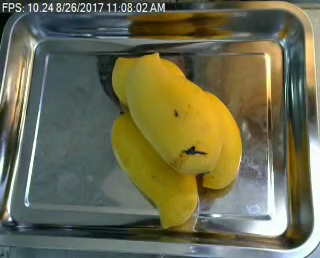Mango: (122, 51, 225, 177), (112, 109, 202, 233), (183, 79, 244, 193)
